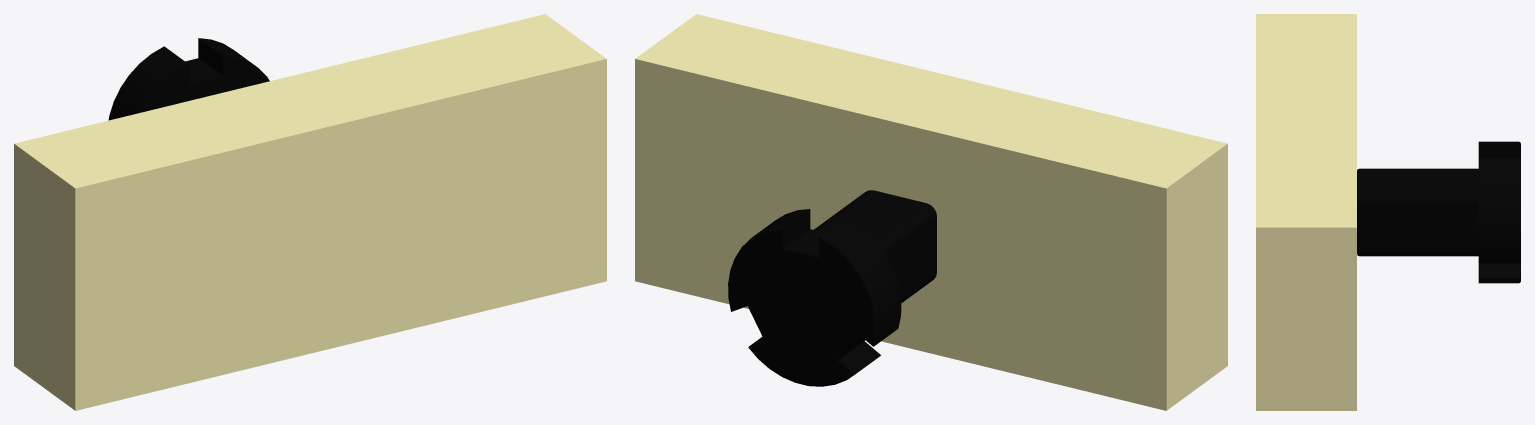
Rendered from Adapter.obj.
3 views of the same model, side by side, from view 1: azimuth 30°, elevation 25°; view 2: azimuth 150°, elevation 25°; view 3: azimuth 270°, elevation 25° (orthographic). The views are drawn at different scales.
Parts seen in each view (by area): view 1: Solid1; view 2: Solid1; view 3: Solid1.
Part boxes in pixels (box(x1,y1,x2,y2)): Solid1: box(14, 14, 606, 410); Solid1: box(635, 14, 1227, 410); Solid1: box(1256, 14, 1520, 410).
Bounding box in the file's own units: 250 × 100 × 131.
